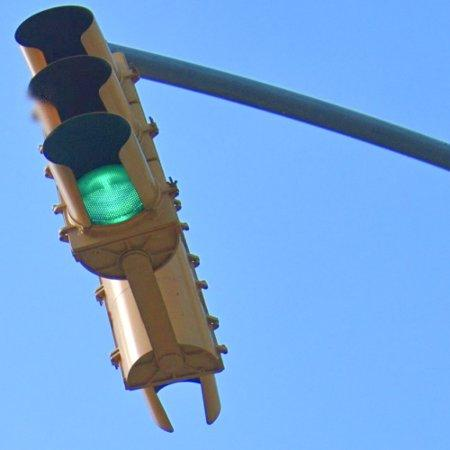traffic lights: (15, 5, 225, 431), (138, 213, 166, 255)
